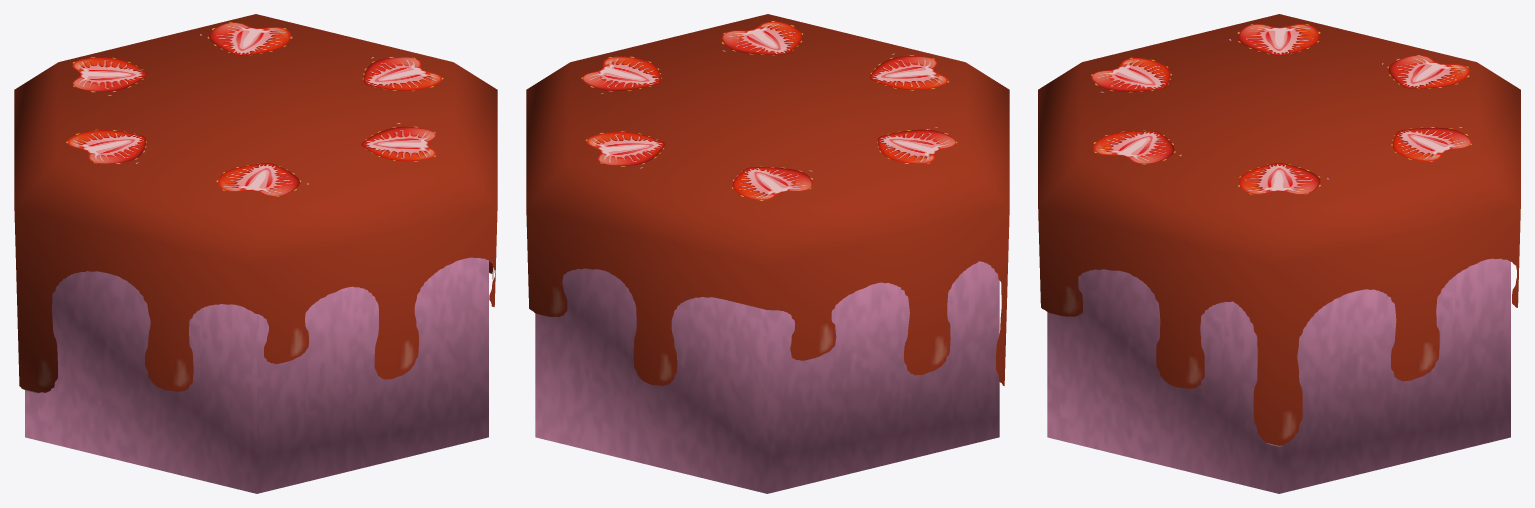
Rendered from Cake_A_06.FBX.
The picture shows the model from 3 angles, left to right: view 1: azimuth 30°, elevation 25°; view 2: azimuth 150°, elevation 25°; view 3: azimuth 270°, elevation 25°; orthographic projection.
Parts seen in each view (by area): view 1: Cake; view 2: Cake; view 3: Cake.
Part boxes in pixels (x1,y1,x2,y2): Cake: (14,14,497,493); Cake: (526,14,1009,493); Cake: (1038,14,1520,493).
Bounding box in the file's own units: 106 × 56.96 × 92.14.
